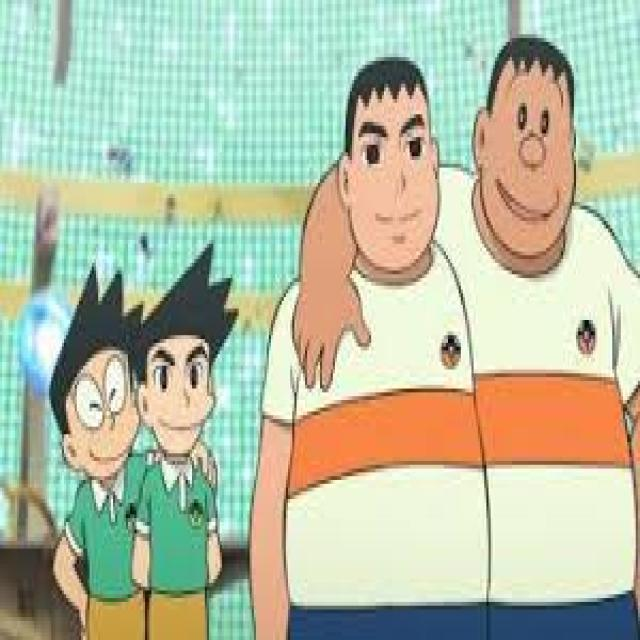jaian: (467, 23, 585, 289), (335, 45, 450, 308)
suneo: (130, 232, 235, 484), (45, 259, 145, 499)
